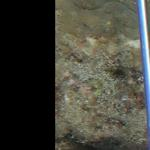dead: (55, 1, 147, 147)
